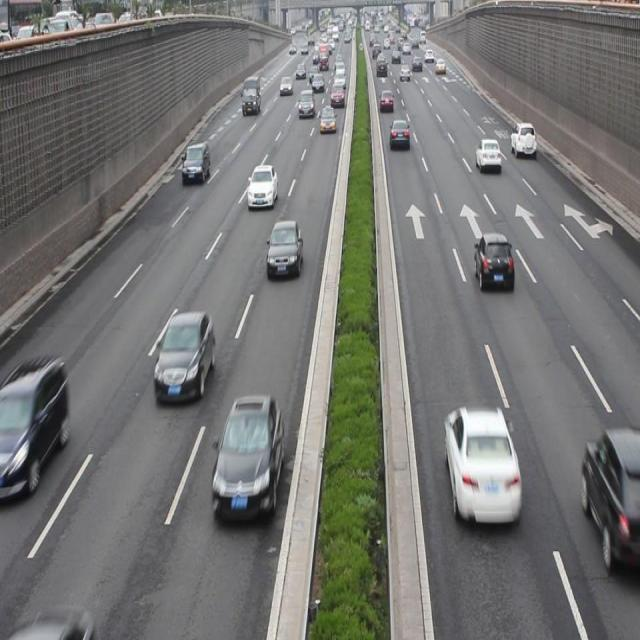car: (1, 358, 70, 498), (442, 404, 521, 524), (211, 394, 283, 522), (580, 426, 640, 568), (153, 311, 214, 402), (474, 230, 514, 294), (265, 220, 303, 277), (246, 163, 278, 209), (182, 142, 210, 183), (474, 136, 500, 171), (510, 121, 535, 156), (388, 117, 411, 151), (319, 104, 335, 134)
